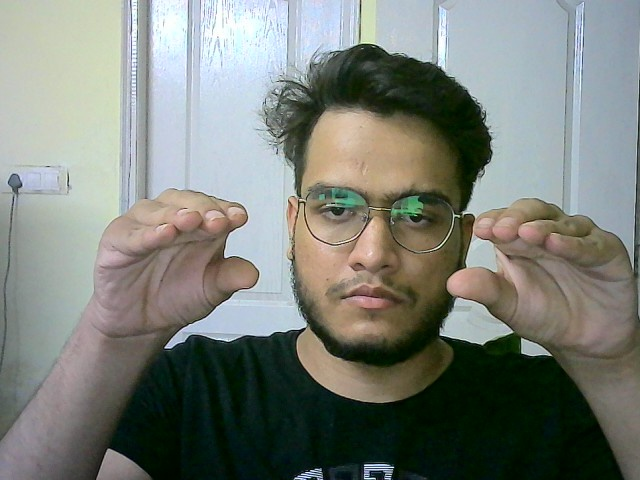No: (441, 189, 640, 365), (82, 181, 266, 346)
